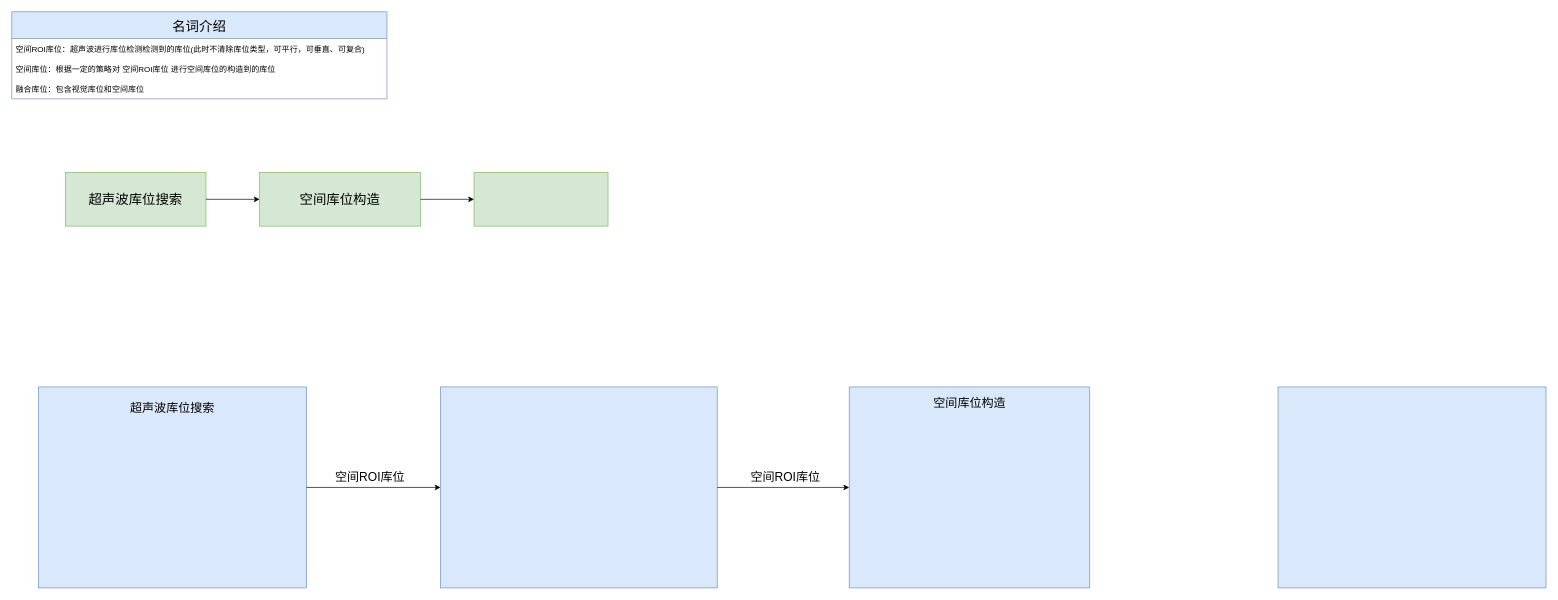
Image size: 1558x600. Some labels were removed from this diagram. The shapes that lost their labels are listed below. From the top down, each one's centre as x and y in pixels, then its label:
(x=540, y=199): 库位融合
(x=578, y=487): 重叠滤波操作
(x=1411, y=487): 空间库位入融合队列
